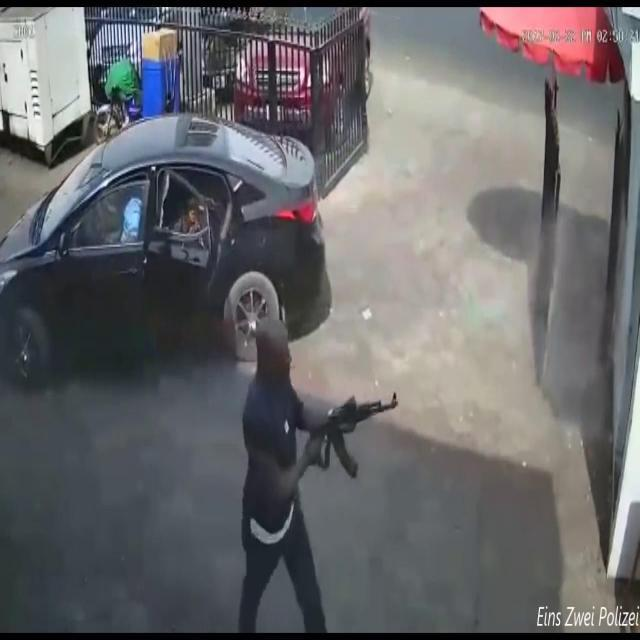pistol: (294, 393, 407, 483)
